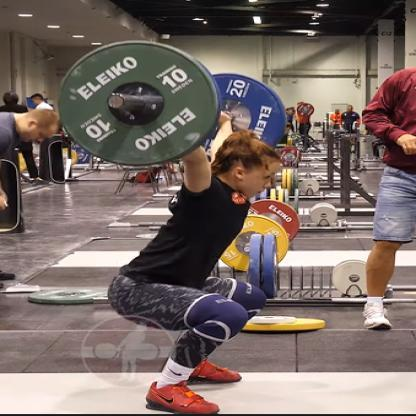barbell: (58, 39, 284, 165)
